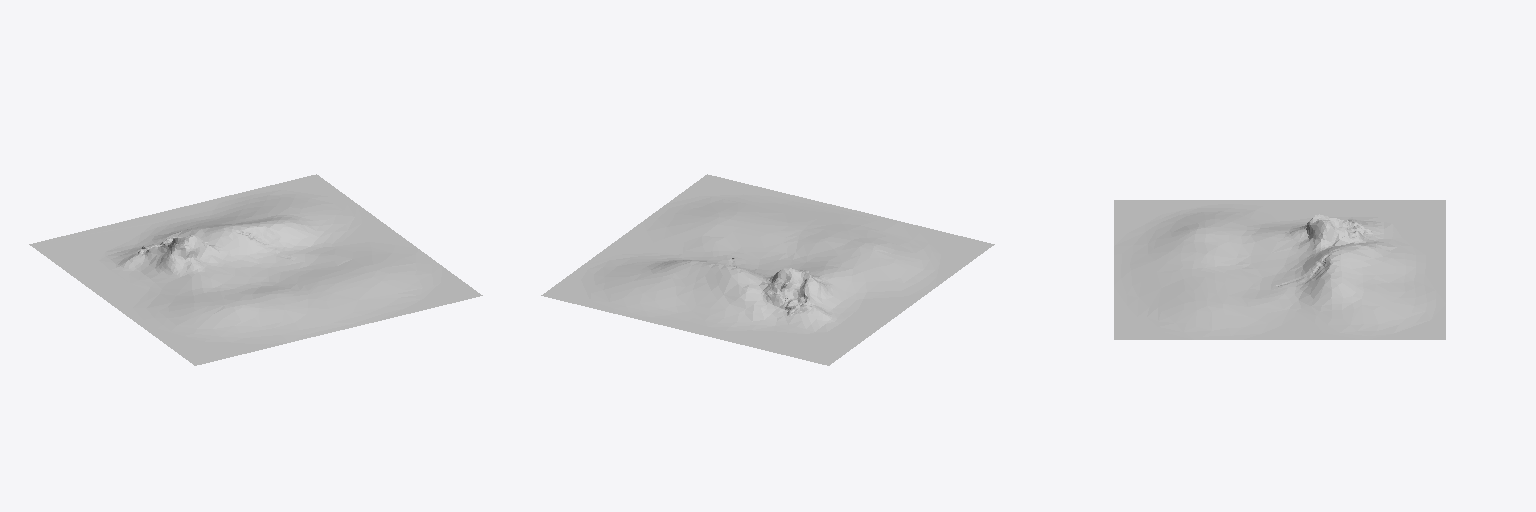
Rendered from PlainWithHillTile0.obj.
3 renders of one model, left to right at view 1: azimuth 30°, elevation 25°; view 2: azimuth 150°, elevation 25°; view 3: azimuth 270°, elevation 25°, orthographic.
Parts seen in each view (by area): view 1: Tile; view 2: Tile; view 3: Tile.
Boxes of the visible parts, x1=… form: Tile: x1=29, y1=174, x2=482, y2=365; Tile: x1=541, y1=174, x2=994, y2=365; Tile: x1=1114, y1=200, x2=1445, y2=339.
Bounding box in the file's own units: 500 × 46.91 × 500.